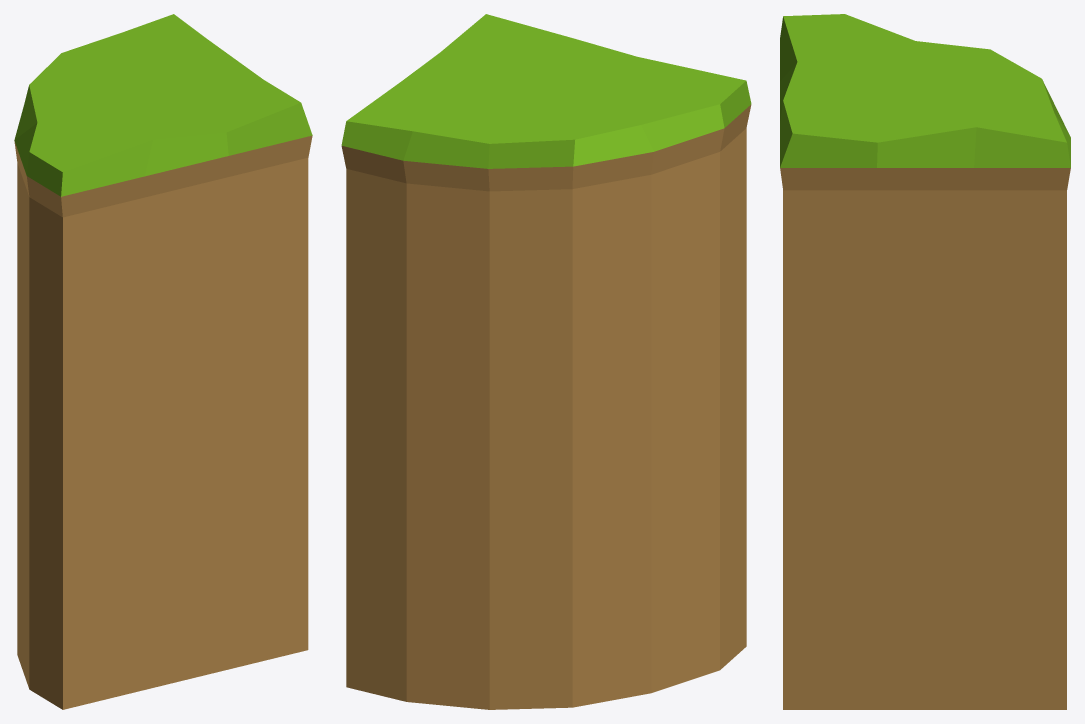
File: Turn_left1.fbx
3 views of the same model, side by side, from view 1: azimuth 30°, elevation 25°; view 2: azimuth 150°, elevation 25°; view 3: azimuth 270°, elevation 25° (orthographic). The views are drawn at different scales.
Parts seen in each view (by area): view 1: Right _turn; view 2: Right _turn; view 3: Right _turn.
Boxes of the visible parts, box(x1,y1,x2,y2) form: Right _turn: box(14, 14, 312, 709); Right _turn: box(341, 14, 751, 709); Right _turn: box(780, 14, 1070, 709).
Bounding box in the file's own units: 400 × 816 × 373.
